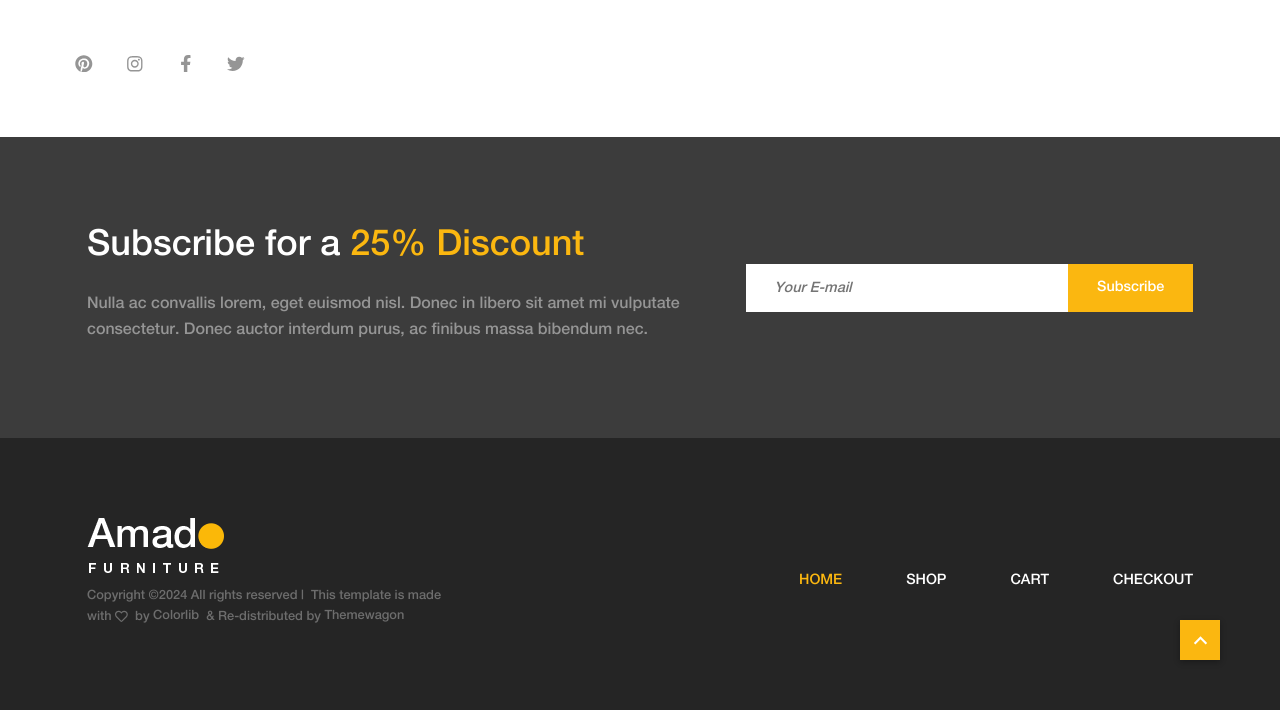
Scenario: Footer spec › Should navigate to the shop page if the shop link is clicked
(page scrolled)
Step 1. Hover over the link "shop" → x=926, y=580, box [906,572,946,587]
Step 2. Click the link "shop" → x=926, y=580, box [906,572,946,587]
(page scrolled)
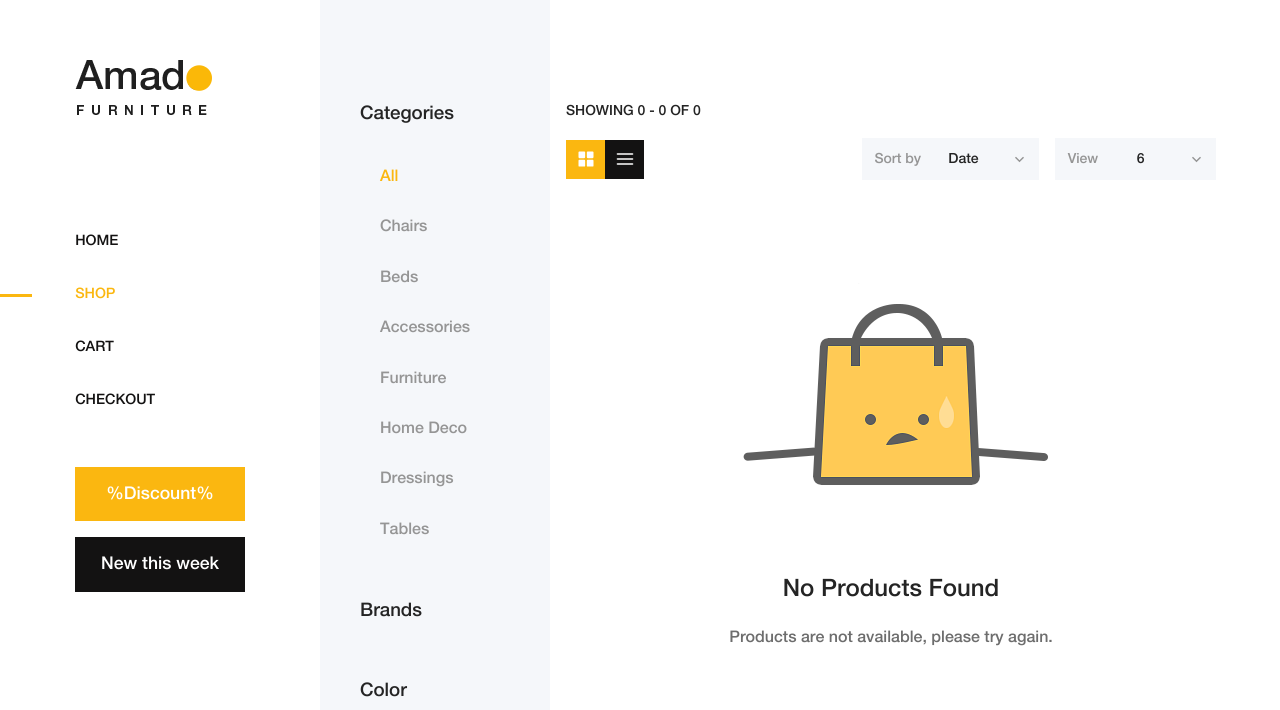
expect the heading "categories" is shown: met, box [360,104,454,124]
